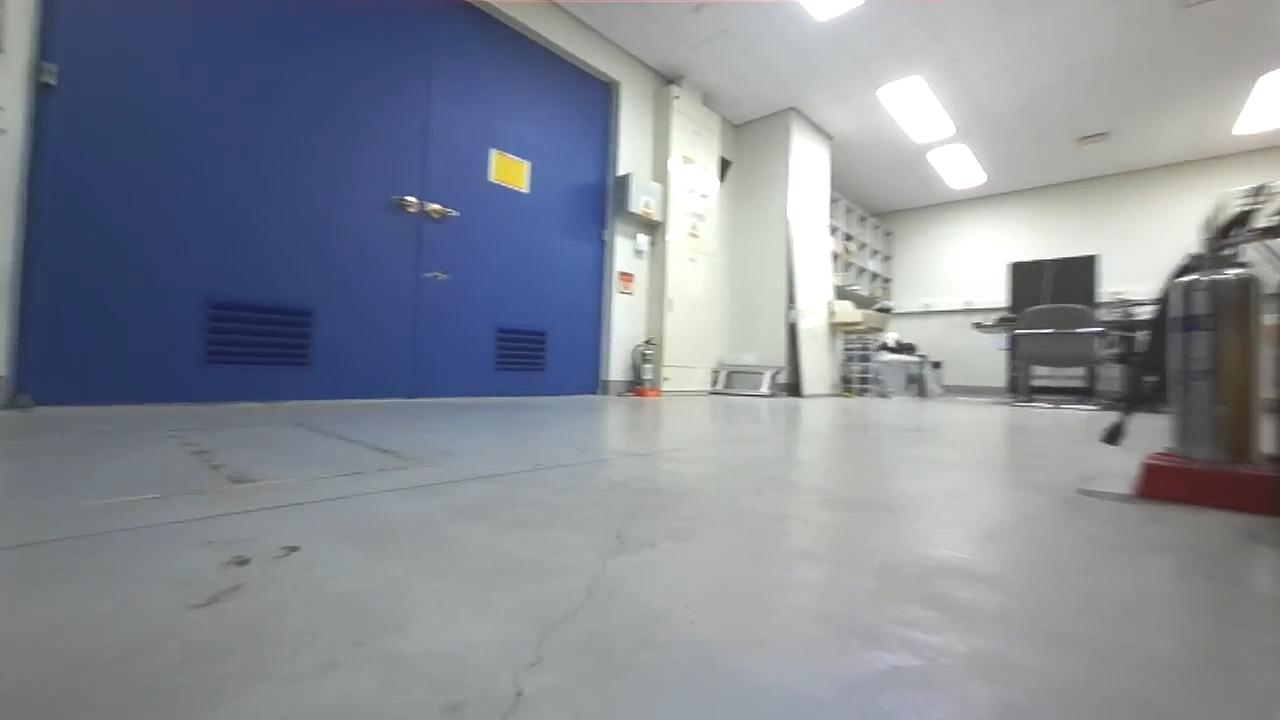crazyflie: (416, 266, 459, 287)
